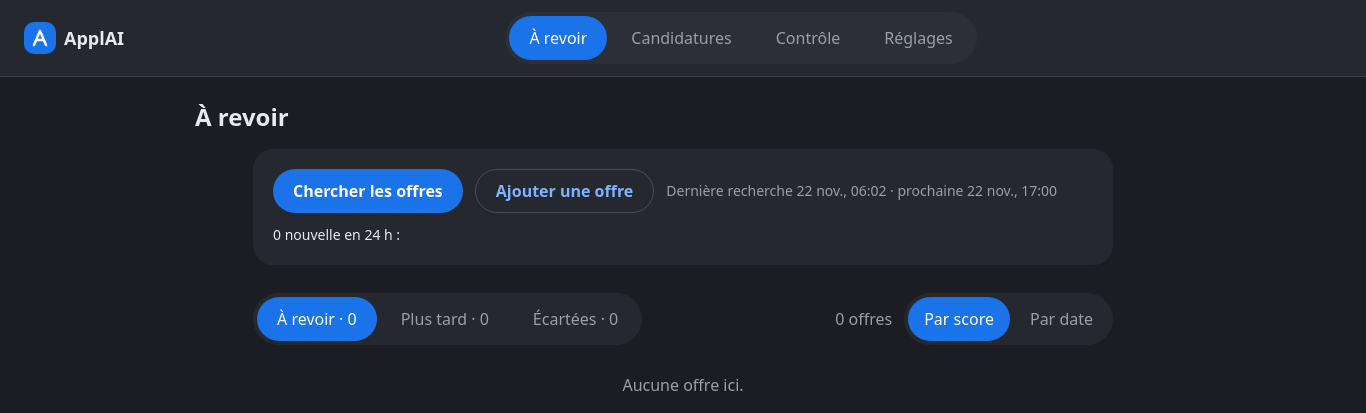
Test: the shell › renders in French, then in English, only from the translation files
The image size is (1366, 413).
Expected: the text "Aucune offre ici." is shown, [622,374,744,396]
Expected: the button "À revoir" is shown, [509,16,607,60]
Step 1. Click the button "Réglages" → (919, 38), box [864,16,973,60]
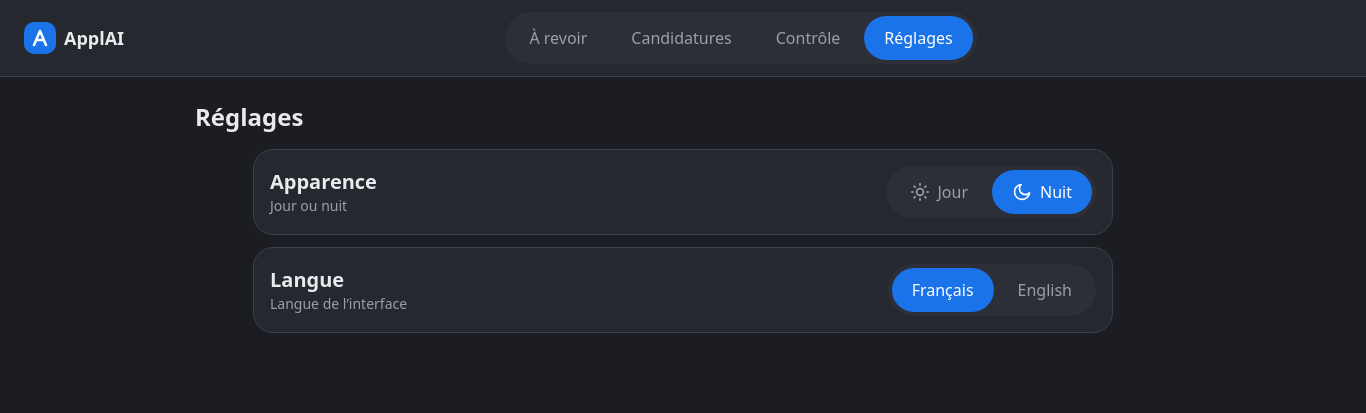
Step 2. Click the button "English" → (1045, 290), box [998,268,1092,312]
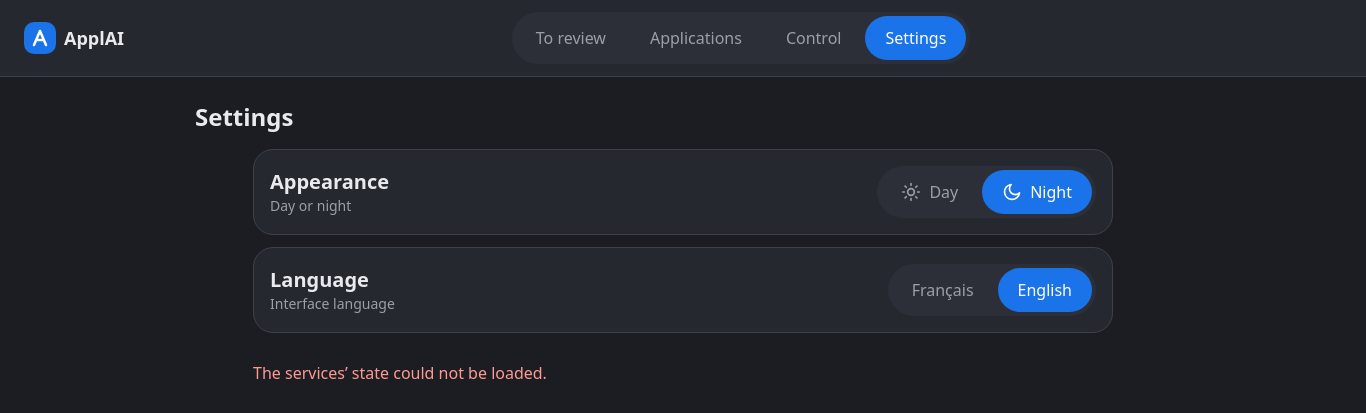
Now the button "To review" is shown, box [516,16,626,60]
Now the button "Applications" is shown, box [630,16,762,60]
Now the button "Control" is shown, box [766,16,862,60]
